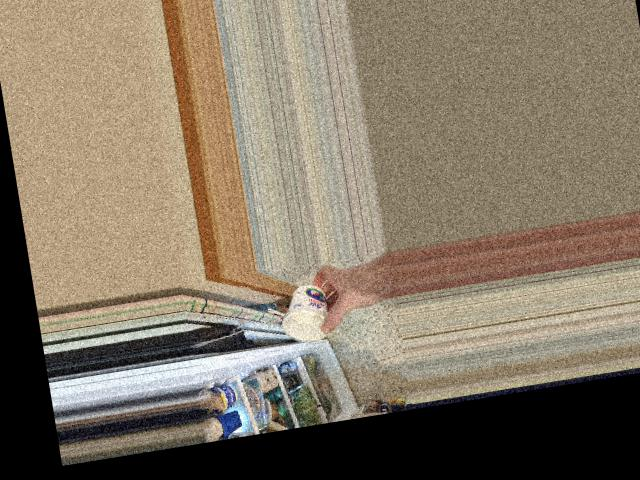cotage: (273, 287, 331, 339)
